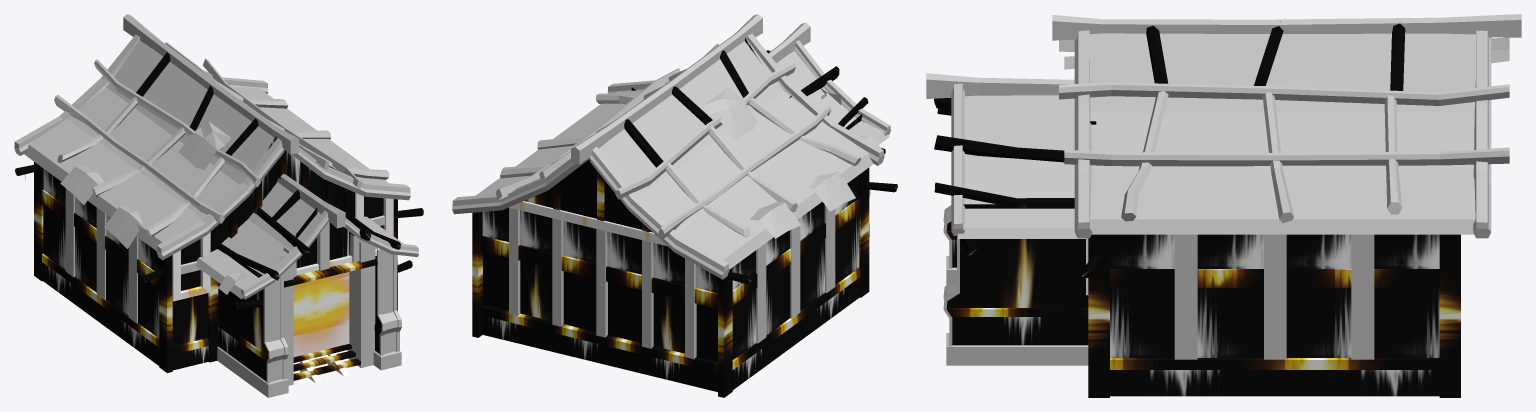
The model's file is jiangzhu006.FBX.
3 views of the same model, side by side, from view 1: azimuth 30°, elevation 25°; view 2: azimuth 150°, elevation 25°; view 3: azimuth 270°, elevation 25° (orthographic). The views are drawn at different scales.
Visible parts, largest first — view 1: jiangzhu006; view 2: jiangzhu006; view 3: jiangzhu006.
Boxes of the visible parts, box(x1,y1,x2,y2) form: jiangzhu006: box(14, 14, 423, 397); jiangzhu006: box(452, 14, 897, 397); jiangzhu006: box(926, 14, 1521, 397).
Bounding box in the file's own units: 162 × 121 × 215.
